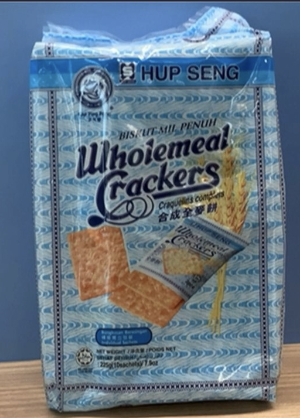crackers_150g: (60, 57, 265, 383)
